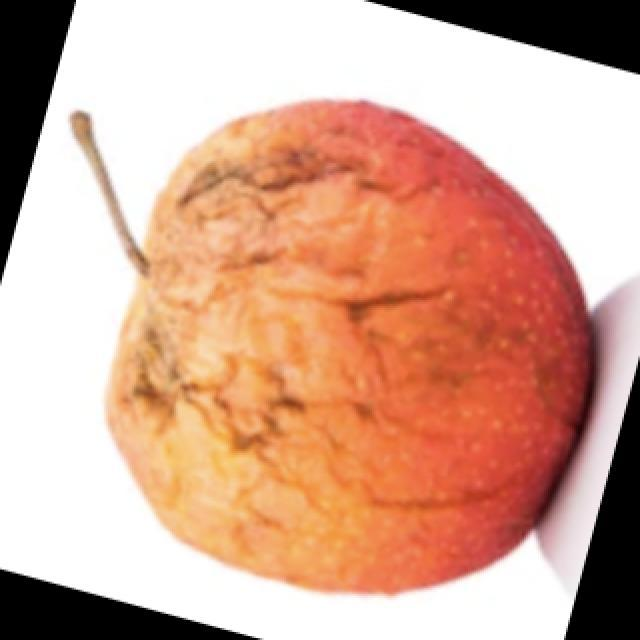Rotten: (117, 96, 585, 582)
